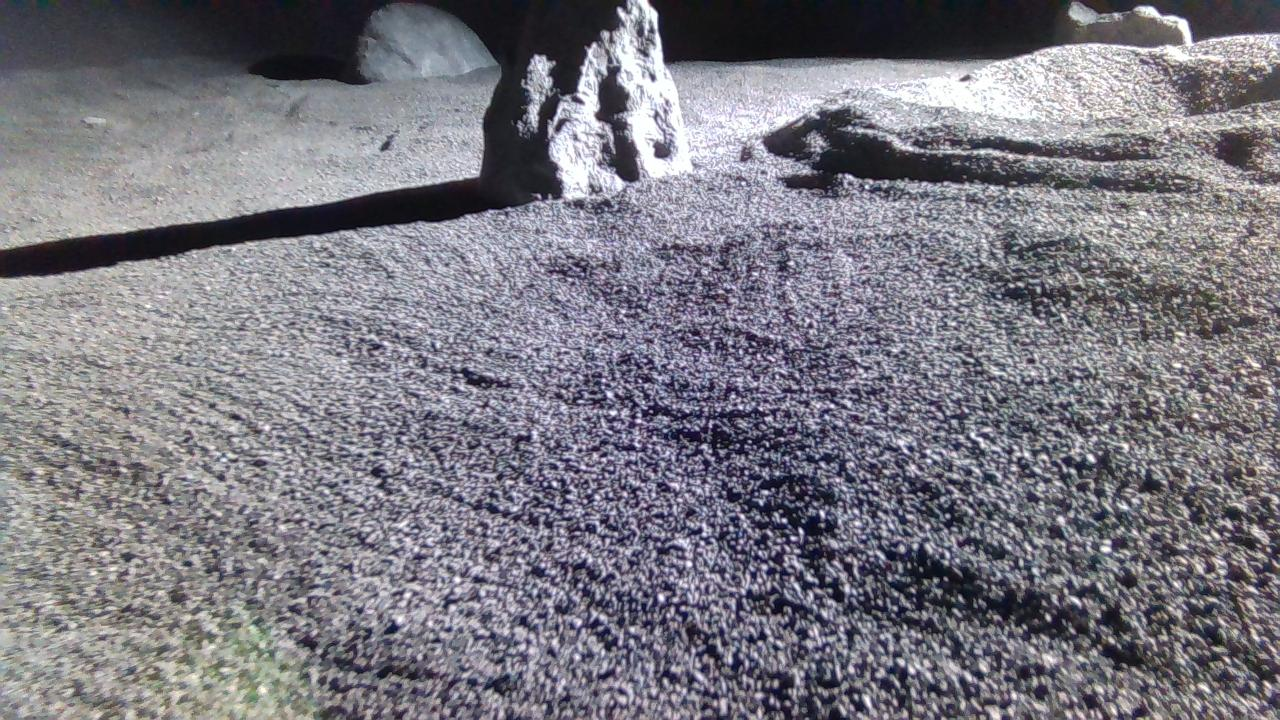rock: (481, 0, 693, 202), (354, 1, 497, 80), (1059, 0, 1194, 44)
